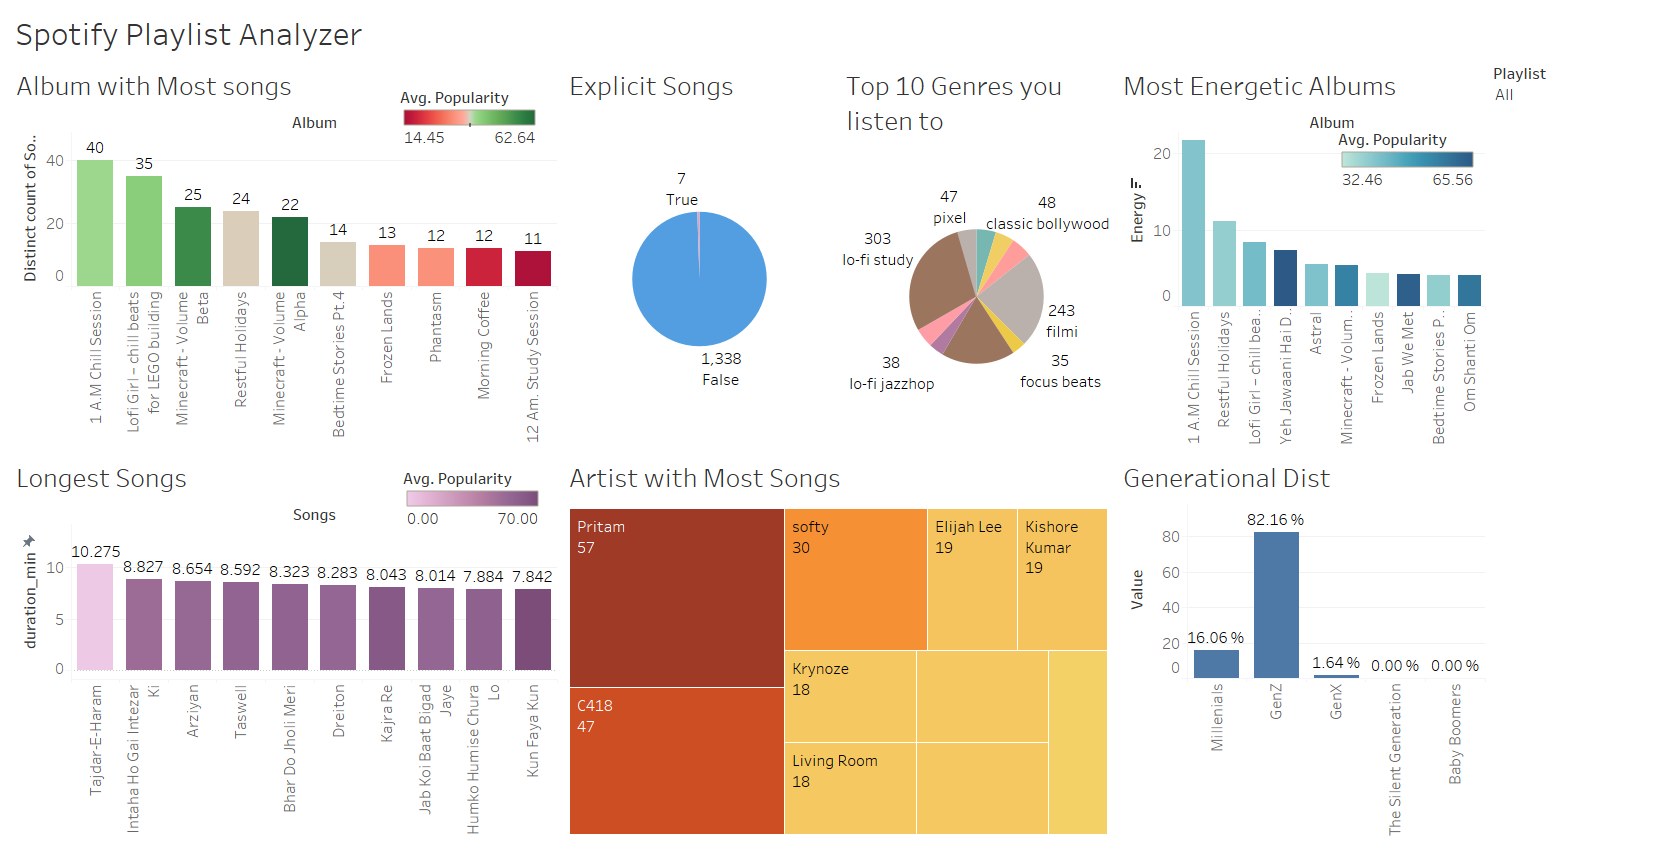

This screenshot's page, from the dashboard's own definition file:
{"tool":"tableau","page":{"name":"Dashboard 1","canvas":[1000,1000],"units":"permille","ordinal":0},"visuals":[{"type":"title","box":[4.8,9.4,990.3,58.8]},{"type":"worksheet","title":"Album with Most songs","mark":"Automatic","rows":["songs"],"cols":["album"],"box":[4.8,68.2,334,461.2]},{"type":"worksheet","title":"Explicit Songs","mark":"Pie","box":[338.9,68.2,167,461.2]},{"type":"worksheet","title":"Top 10 Genres","mark":"Pie","box":[505.9,68.2,167,461.2]},{"type":"worksheet","title":"Most Energetic Albums","mark":"Automatic","rows":["energy"],"cols":["album"],"box":[672.9,68.2,225.7,461.2]},{"type":"filter","title":"Artist with Most Songs","param":"[federated.1tyk5f20gfc3fu13wewg218x3qvs].[none:playlist:nk]","box":[898.6,68.2,96.6,71.7]},{"type":"legend","title":"Album with Most songs","param":"[federated.1tyk5f20gfc3fu13wewg218x3qvs].[avg:popularity:qk]","box":[241.4,97.5,84.5,103.4]},{"type":"legend","title":"Most Energetic Albums","param":"[federated.1tyk5f20gfc3fu13wewg218x3qvs].[avg:popularity:qk]","box":[807.5,146.9,84.5,103.4]},{"type":"worksheet","title":"Longest Songs","mark":"Automatic","rows":["duration_min"],"cols":["songs"],"box":[4.8,529.4,334,461.2]},{"type":"worksheet","title":"Artist with Most Songs","mark":"Automatic","box":[338.9,529.4,334,461.2]},{"type":"worksheet","title":"Generational Dist","mark":"Automatic","box":[672.9,529.4,225.7,461.2]},{"type":"legend","title":"Longest Songs","param":"[federated.1tyk5f20gfc3fu13wewg218x3qvs].[avg:popularity:qk]","box":[243.2,545.2,84.5,103.4]}]}

Visuals, with their boxes on the dashboard's canvas, which has no fixed pixel size, in thousandths of its width and height (x1, y1, x2, y2). These are canvas units, not pixel positions in the 1657x851 screenshot, which may show the page scaled, cropped or inside an application window:
title: box=[5, 9, 995, 68]
"Album with Most songs" worksheet: box=[5, 68, 339, 529]
"Explicit Songs" worksheet (Pie marks): box=[339, 68, 506, 529]
"Top 10 Genres" worksheet (Pie marks): box=[506, 68, 673, 529]
"Most Energetic Albums" worksheet: box=[673, 68, 899, 529]
"Artist with Most Songs" filter: box=[899, 68, 995, 140]
"Album with Most songs" legend: box=[241, 98, 326, 201]
"Most Energetic Albums" legend: box=[808, 147, 892, 250]
"Longest Songs" worksheet: box=[5, 529, 339, 991]
"Artist with Most Songs" worksheet: box=[339, 529, 673, 991]
"Generational Dist" worksheet: box=[673, 529, 899, 991]
"Longest Songs" legend: box=[243, 545, 328, 649]
